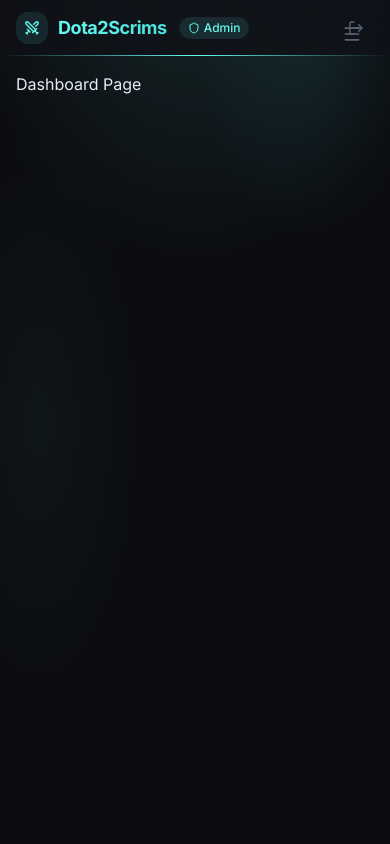
Test: AdminLayout › mobile drawer › closes drawer when a nav link is clicked
Click the button named "menu": (352, 34) [330,12,374,56]
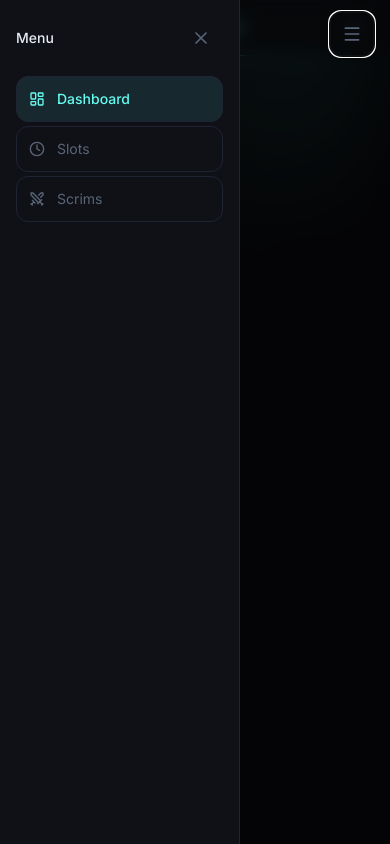
Click the link "Slots": (120, 149) [16,126,223,172]
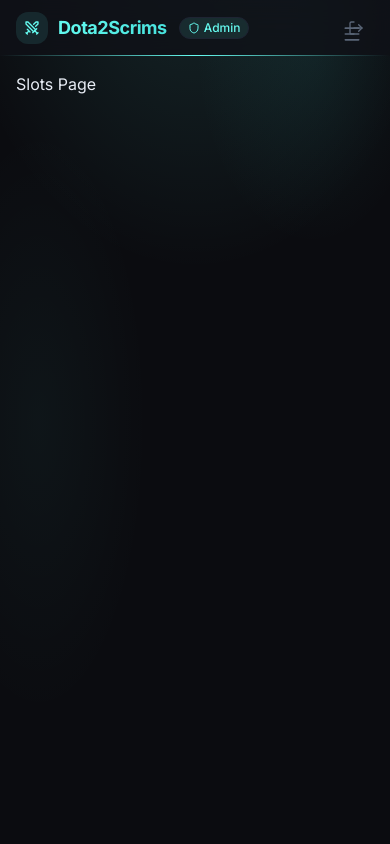
Now the element with test id "mobile-drawer" is gone
